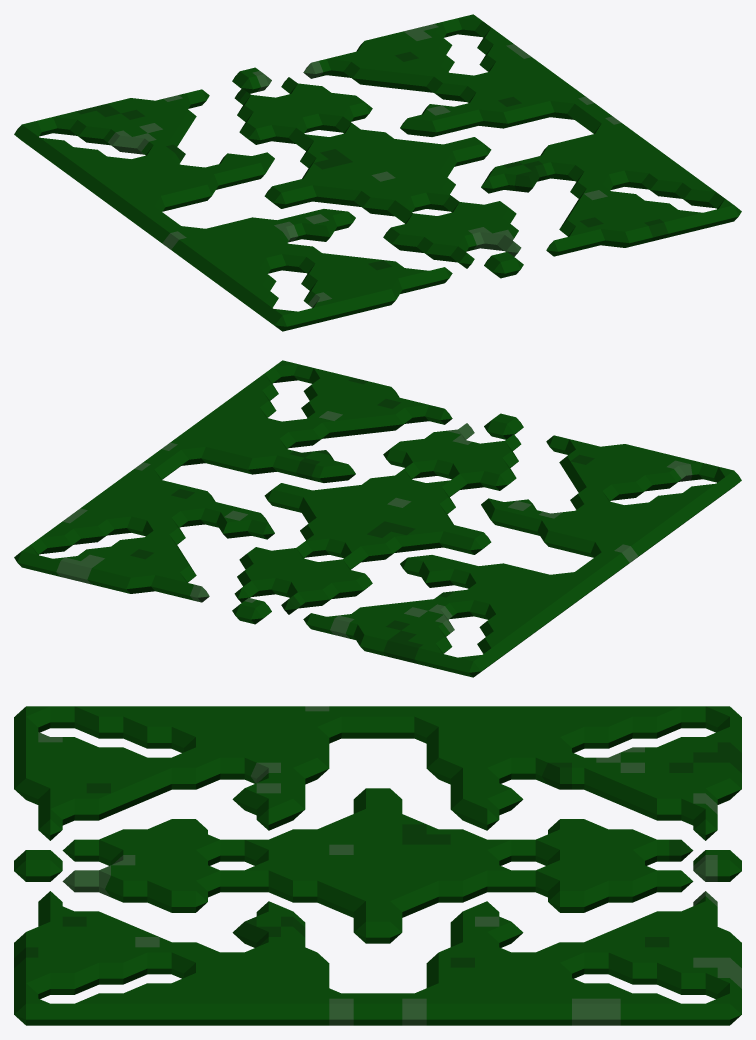
File: Grass.fbx
The picture shows the model from 3 angles, top to bottom: view 1: azimuth 30°, elevation 25°; view 2: azimuth 150°, elevation 25°; view 3: azimuth 270°, elevation 25°; orthographic projection. The views are drawn at different scales.
Parts seen in each view (by area): view 1: Grass; view 2: Grass; view 3: Grass.
Boxes of the visible parts, x1,y1,x2,y2 form: Grass: (14, 14, 741, 331); Grass: (14, 360, 741, 677); Grass: (14, 706, 741, 1025).
Bounding box in the file's own units: 300 × 10 × 300.
